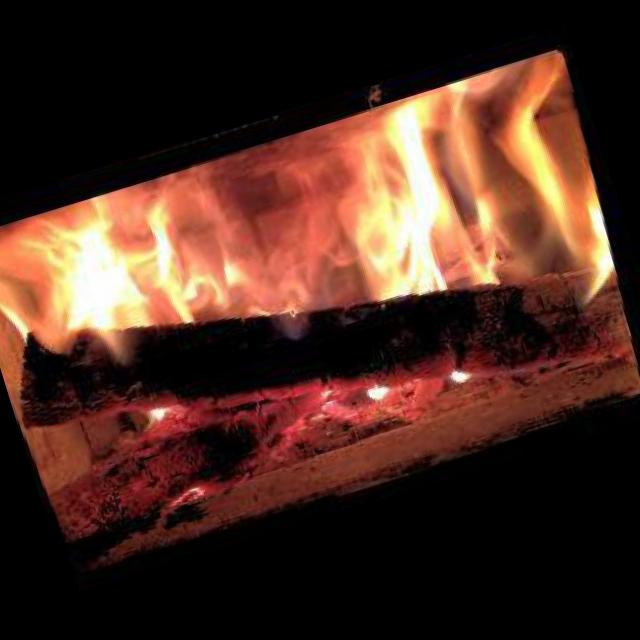fire: (0, 53, 616, 454)
